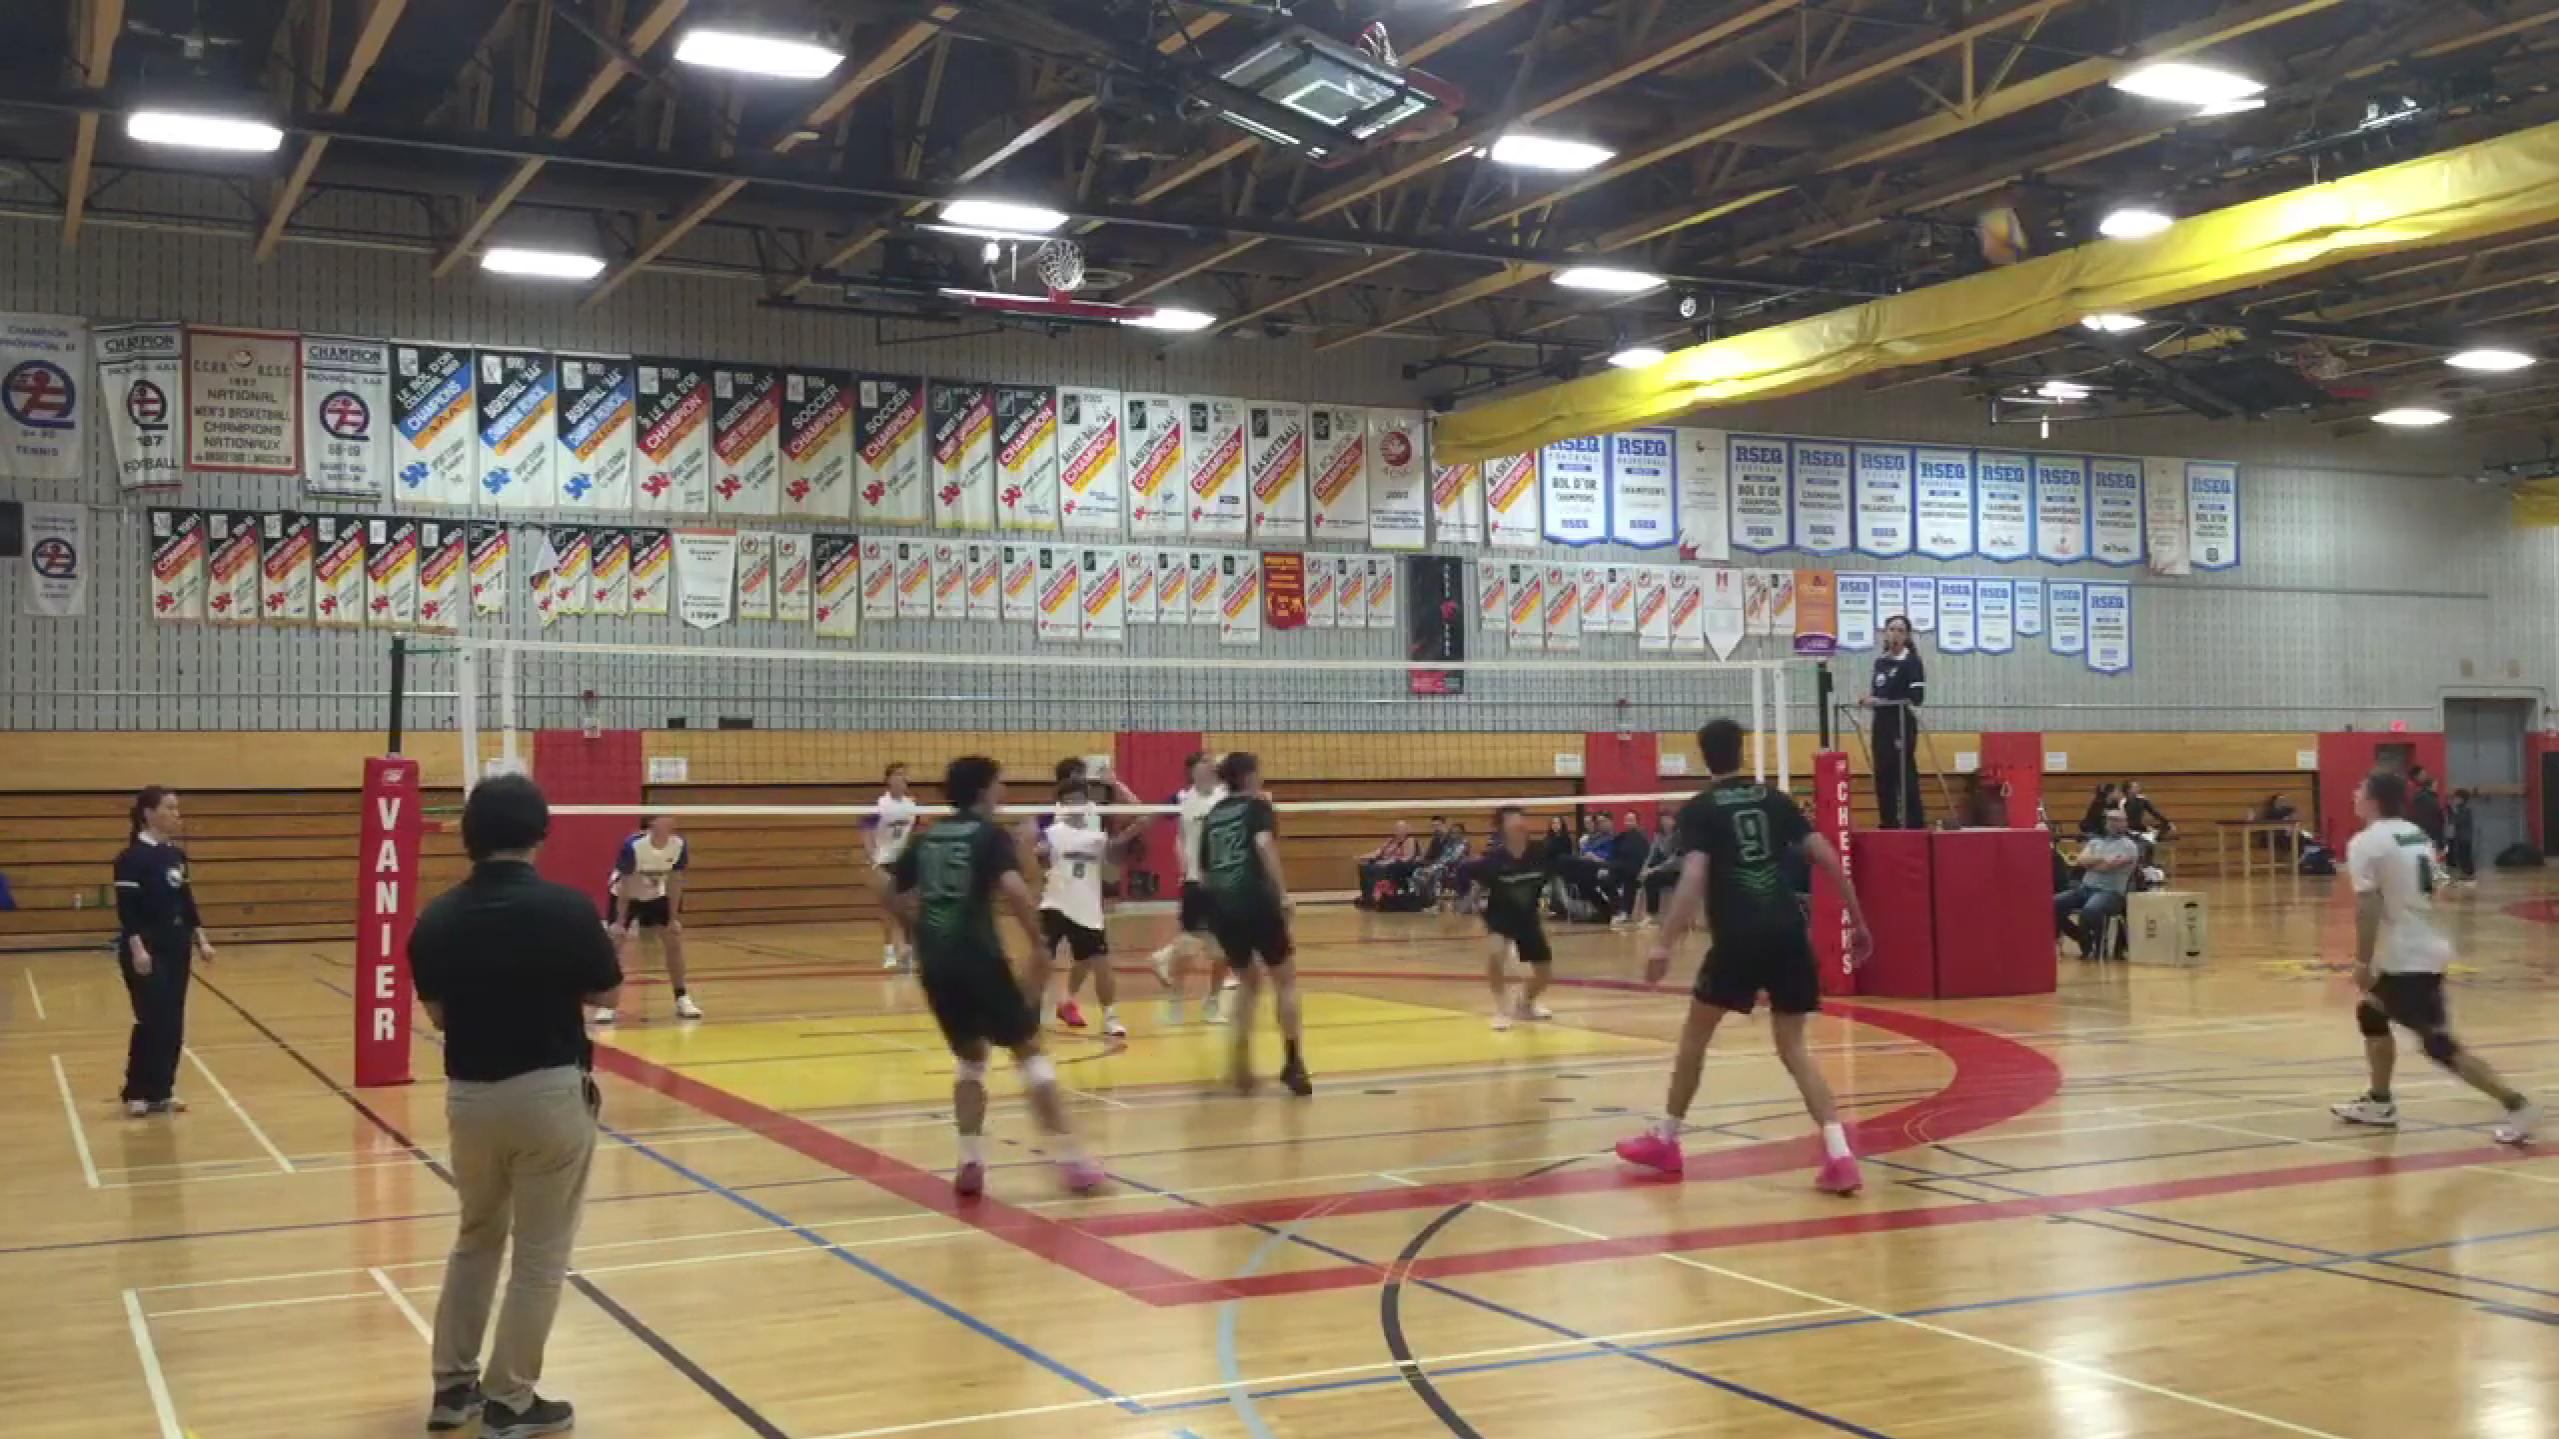Ball: (1975, 207, 2032, 267)
